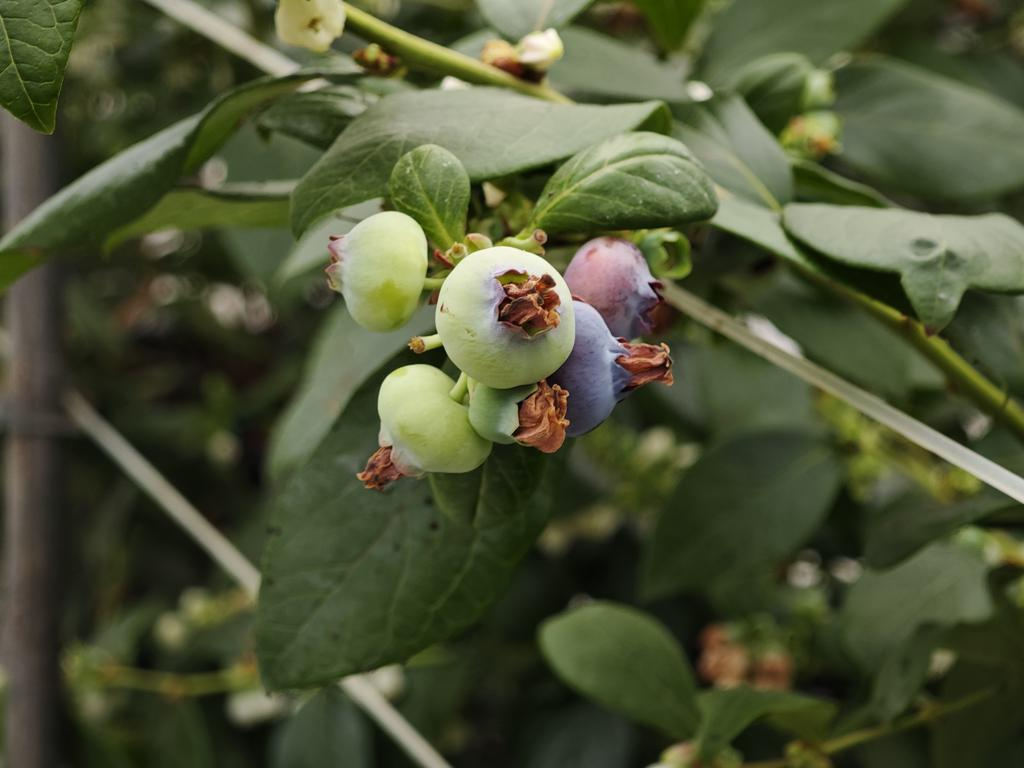RipeBlueBerry: (553, 303, 633, 435)
Semi-RipeBlueBerry: (567, 234, 664, 334)
UnripeBlueBerry: (435, 245, 576, 389), (376, 362, 492, 478), (326, 207, 429, 332)
